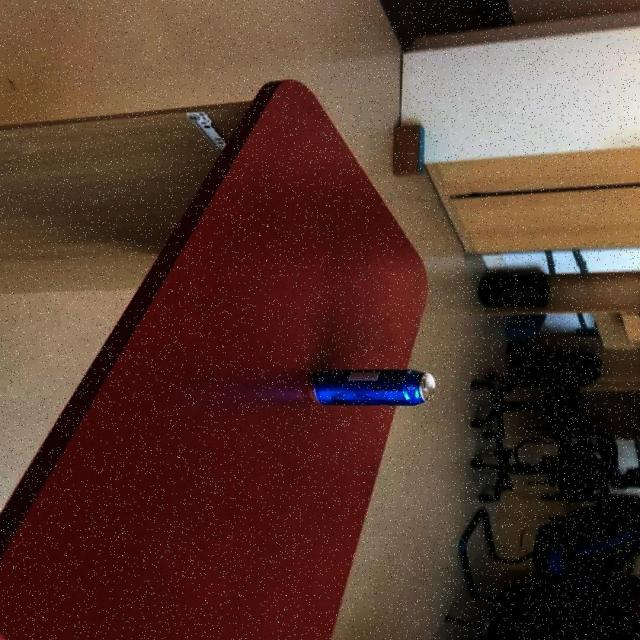Tonic: (206, 368, 436, 406), (308, 368, 436, 406)
